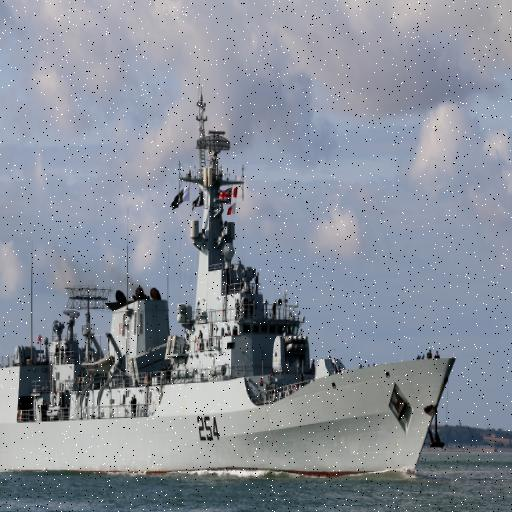Fragata: (1, 80, 460, 485)
